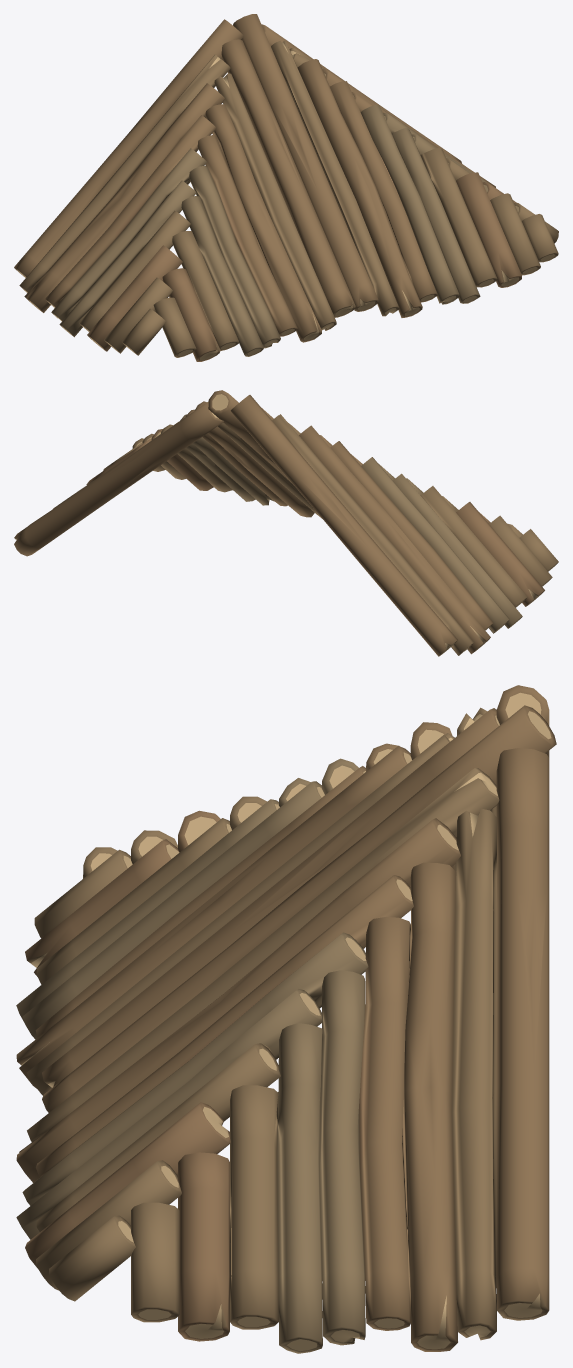
Rendered from rpgpp_ag_roof_01_6x3x3_end_02.fbx.
The picture shows the model from 3 angles, top to bottom: view 1: azimuth 30°, elevation 25°; view 2: azimuth 150°, elevation 25°; view 3: azimuth 270°, elevation 25°; orthographic projection. The views are drawn at different scales.
Parts seen in each view (by area): view 1: rpgpp_ag_roof_01_6x3x3_end_02; view 2: rpgpp_ag_roof_01_6x3x3_end_02; view 3: rpgpp_ag_roof_01_6x3x3_end_02.
Part boxes in pixels (<box>): rpgpp_ag_roof_01_6x3x3_end_02: <box>14,14,558,361</box>; rpgpp_ag_roof_01_6x3x3_end_02: <box>14,390,558,656</box>; rpgpp_ag_roof_01_6x3x3_end_02: <box>16,685,556,1353</box>.
Bounding box in the file's own units: 8.61 × 3.96 × 4.37.
